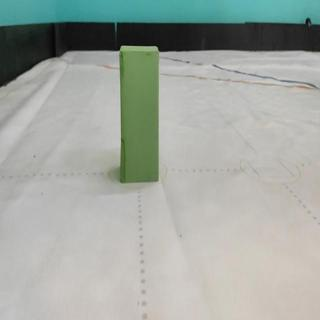greenbox: (118, 45, 161, 186)
